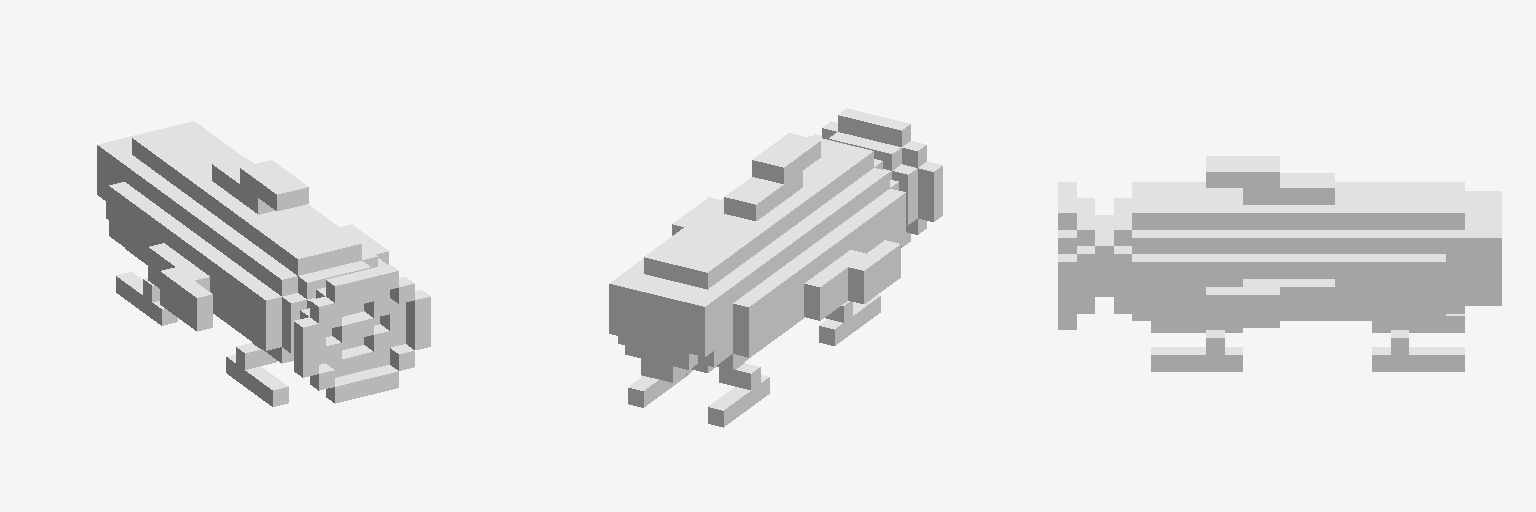
The model's file is ship.obj.
3 views of the same model, side by side, from view 1: azimuth 30°, elevation 25°; view 2: azimuth 150°, elevation 25°; view 3: azimuth 270°, elevation 25° (orthographic).
Parts seen in each view (by area): view 1: object 1; view 2: object 1; view 3: object 1.
Boxes of the visible parts, <box> form: object 1: <box>97,121,430,406</box>; object 1: <box>609,108,942,427</box>; object 1: <box>1058,156,1501,371</box>.
Size of the model in its own units: 1.2 by 1.1 by 2.4.